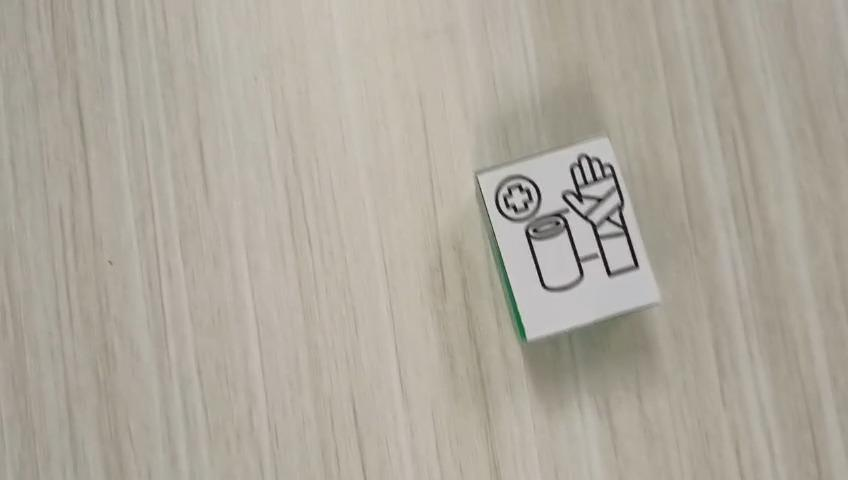Bandages: (474, 133, 661, 342)
